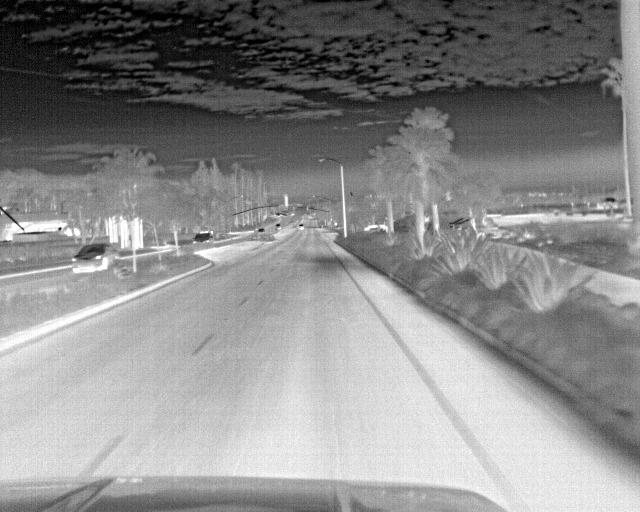car: (68, 239, 116, 273), (191, 228, 215, 246)
